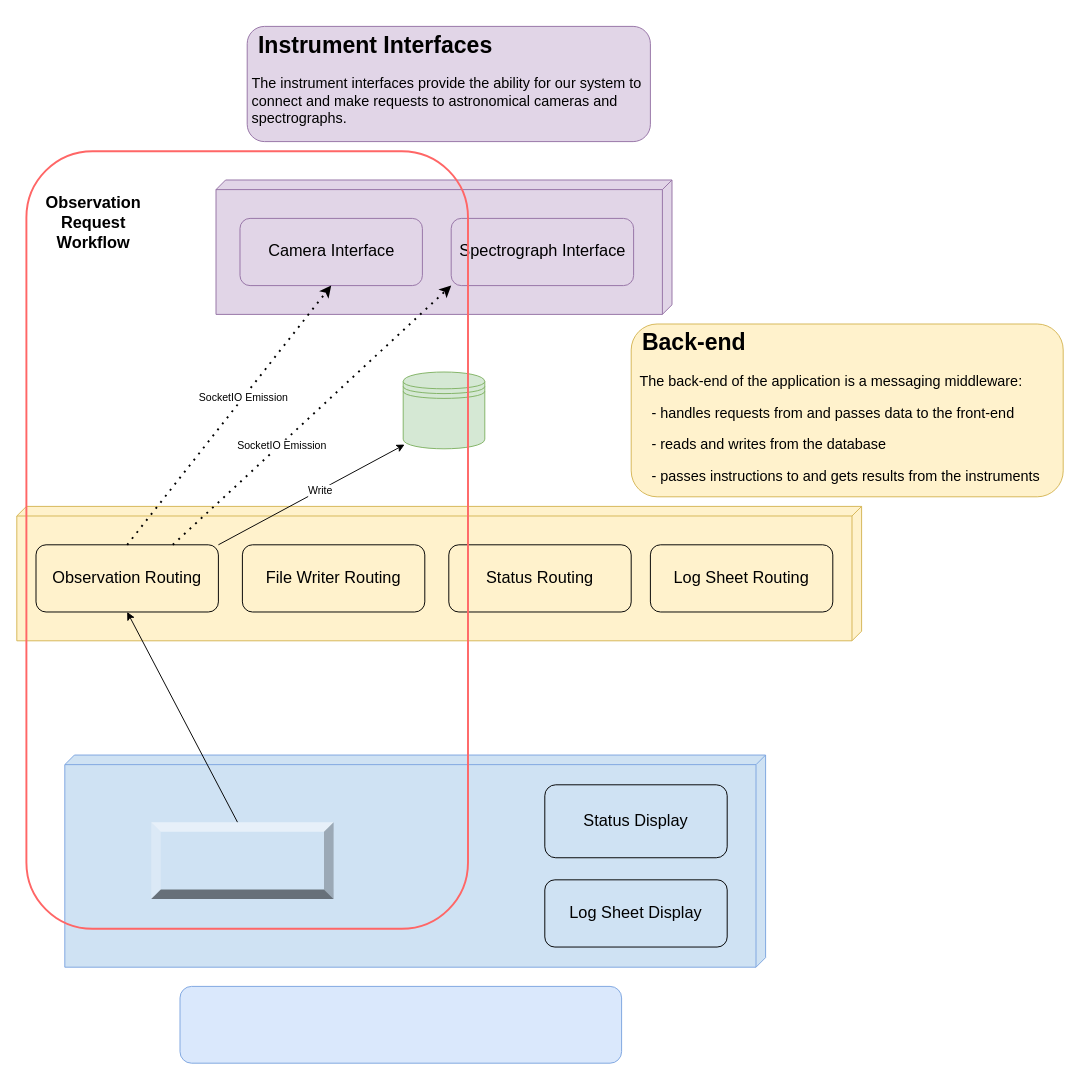
Image size: 1080x1080. Some labels were removed from this diagram. Each missing label, with the centre of its shape:
"Database" goes at (x=443, y=410).
"Front-end The front-end of the application is a React Single-Page Application" goes at (x=400, y=1024).
"Observation Request Form" goes at (x=242, y=860).
